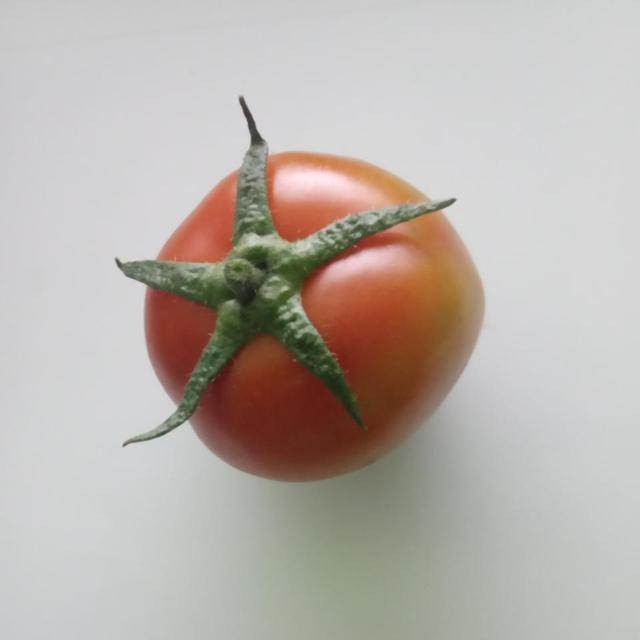Healthy Fruit: (95, 95, 325, 322)
